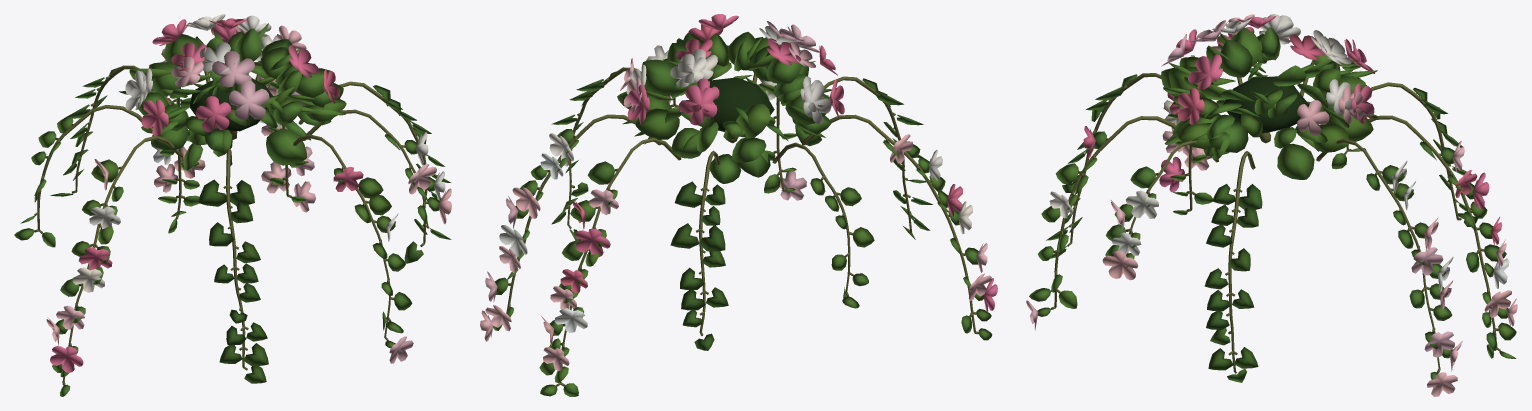
File: potfill_trailing.glb
The picture shows the model from 3 angles, left to right: view 1: azimuth 30°, elevation 25°; view 2: azimuth 150°, elevation 25°; view 3: azimuth 270°, elevation 25°; orthographic projection. The views are drawn at different scales.
Parts seen in each view (by area): view 1: Sammel Pflanze, Sammel Putz, Sammel Blatt; view 2: Sammel Pflanze, Sammel Putz, Sammel Blatt; view 3: Sammel Pflanze, Sammel Putz, Sammel Blatt.
Boxes of the visible parts, left/top/right/bottom form: Sammel Pflanze: left=14, top=14, right=451, bottom=396; Sammel Putz: left=34, top=60, right=429, bottom=385; Sammel Blatt: left=190, top=78, right=272, bottom=131; Sammel Pflanze: left=480, top=14, right=997, bottom=396; Sammel Putz: left=506, top=67, right=979, bottom=386; Sammel Blatt: left=709, top=77, right=774, bottom=131; Sammel Pflanze: left=1026, top=14, right=1517, bottom=396; Sammel Putz: left=1050, top=61, right=1500, bottom=373; Sammel Blatt: left=1223, top=76, right=1309, bottom=133.
Size of the model in its own units: 0.7969 by 0.5408 by 0.797.
